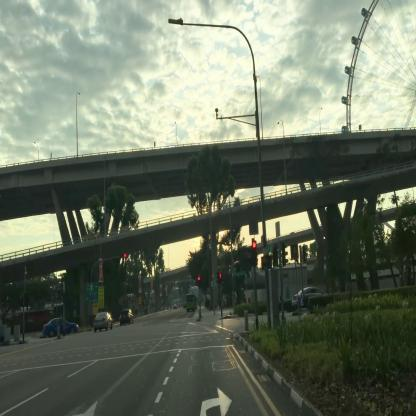red_traffic_light: (252, 241, 257, 265), (119, 254, 126, 258), (198, 276, 200, 288)
